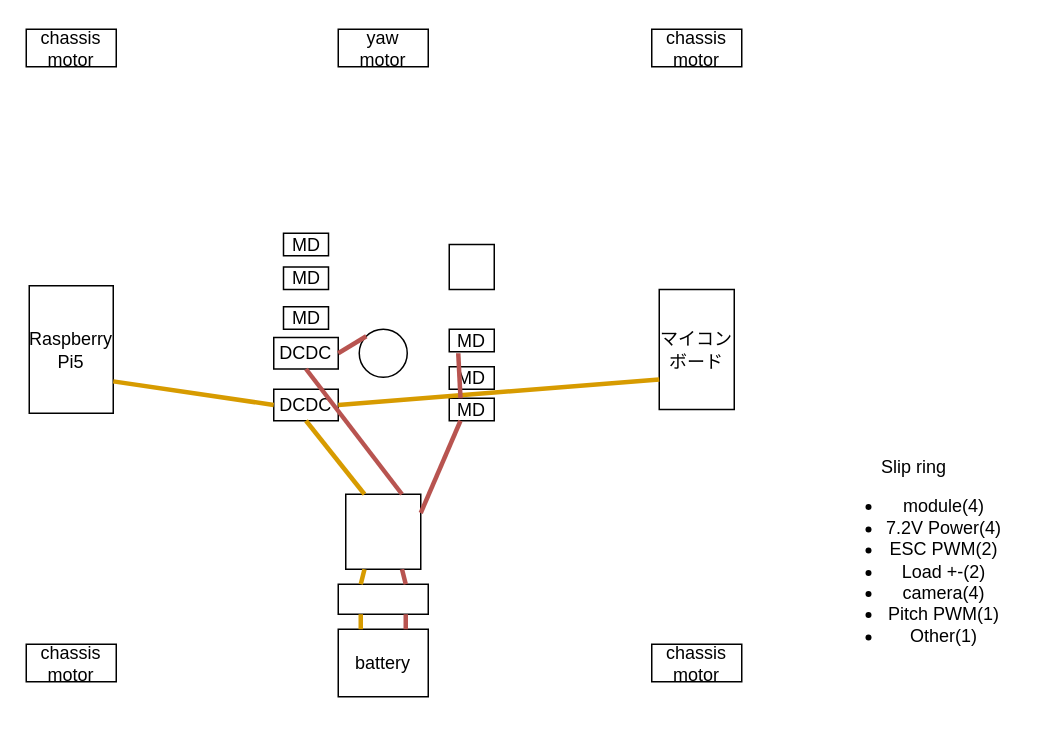
The diagram is 1046 pixels wide and 735 high, and some of its shapes have lost their labels. Each missing label, with the centre of its shape:
slip ring: pixel 382 352
switch: pixel 382 598
情報取得: pixel 471 266
電源管理: pixel 382 531
